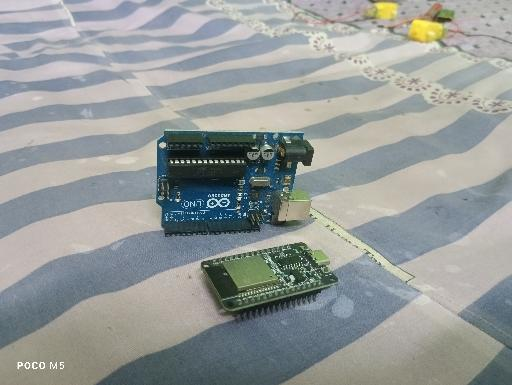Arduino: (156, 129, 315, 238)
Esp32: (200, 242, 339, 325)
